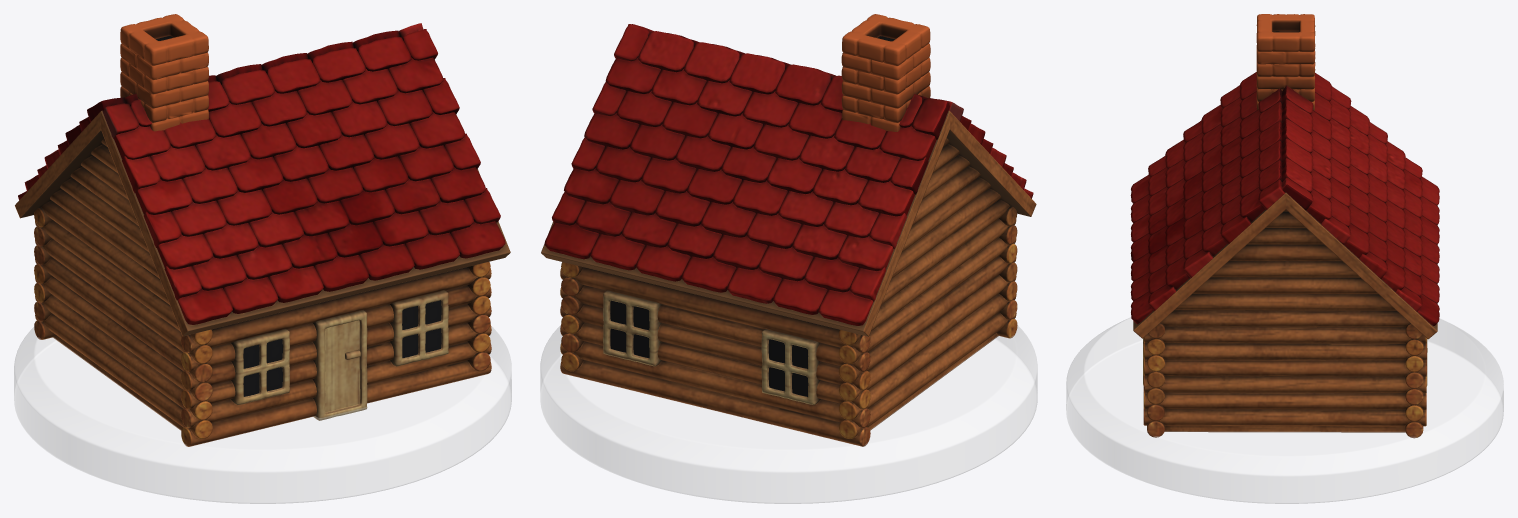
The model's file is cabin.gltf.
3 renders of one model, left to right at view 1: azimuth 30°, elevation 25°; view 2: azimuth 150°, elevation 25°; view 3: azimuth 270°, elevation 25°, orthographic. The views are drawn at different scales.
Visible parts, largest first — view 1: 20958_Log_Cabin_v1_NEW; view 2: 20958_Log_Cabin_v1_NEW; view 3: 20958_Log_Cabin_v1_NEW.
Part boxes in pixels (x1=…): 20958_Log_Cabin_v1_NEW: x1=14, y1=14, x2=511, y2=503; 20958_Log_Cabin_v1_NEW: x1=540, y1=14, x2=1037, y2=503; 20958_Log_Cabin_v1_NEW: x1=1066, y1=14, x2=1503, y2=503.
Size of the model in its own units: 9.91 by 8.61 by 9.91.
Materials: 2 (1 with a texture image).
